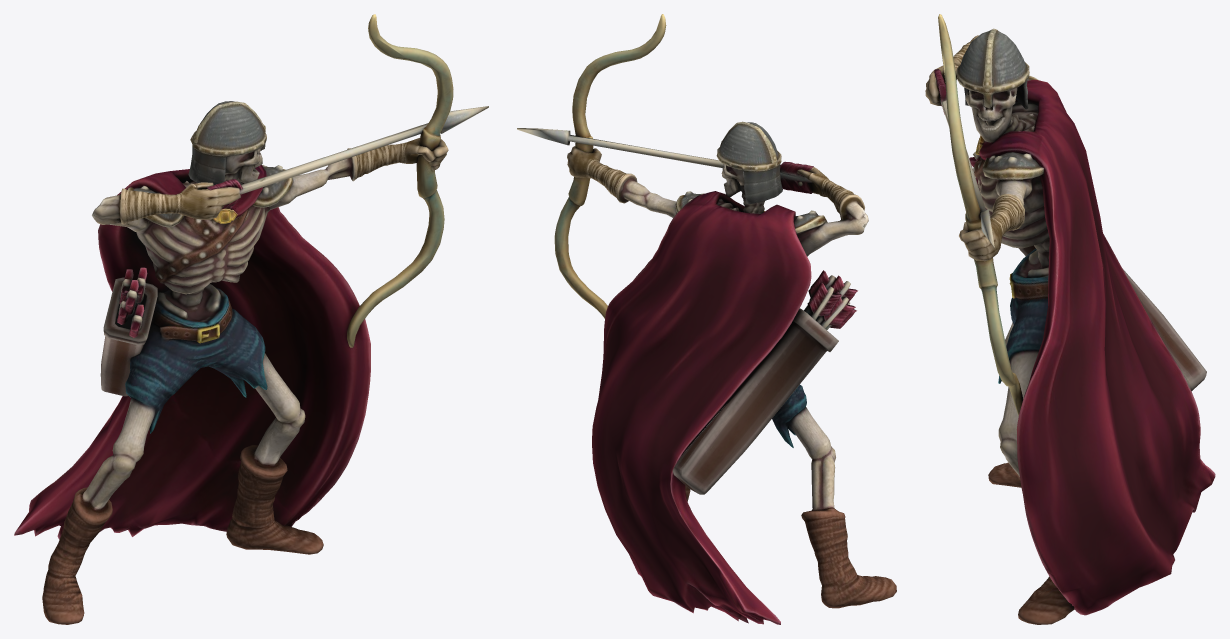
File: MZ4250 - Skeleton Archer.glb
The picture shows the model from 3 angles, left to right: view 1: azimuth 30°, elevation 25°; view 2: azimuth 150°, elevation 25°; view 3: azimuth 270°, elevation 25°; orthographic projection. The views are drawn at different scales.
Parts seen in each view (by area): view 1: cape_low.001, body_low.001, bow_low.001, quiver_low.001, arrow_low.001; view 2: cape_low.001, body_low.001, quiver_low.001, bow_low.001, arrow_low.001; view 3: cape_low.001, body_low.001, bow_low.001, quiver_low.001, arrow_low.001.
Boxes of the visible parts, bbox=[...] form: cape_low.001: bbox=[14, 165, 370, 539]; body_low.001: bbox=[42, 101, 448, 624]; bow_low.001: bbox=[347, 14, 453, 347]; quiver_low.001: bbox=[100, 267, 157, 396]; arrow_low.001: bbox=[207, 106, 488, 209]; cape_low.001: bbox=[592, 191, 811, 624]; body_low.001: bbox=[567, 121, 896, 608]; quiver_low.001: bbox=[672, 270, 857, 494]; bow_low.001: bbox=[554, 14, 666, 318]; arrow_low.001: bbox=[517, 128, 813, 193]; cape_low.001: bbox=[979, 79, 1215, 615]; body_low.001: bbox=[925, 28, 1074, 624]; bow_low.001: bbox=[938, 14, 1022, 415]; quiver_low.001: bbox=[969, 151, 1206, 391]; arrow_low.001: bbox=[934, 69, 994, 248].
Size of the model in its own units: 5.25 by 6.57 by 2.77.
1 material, 1 textured.
